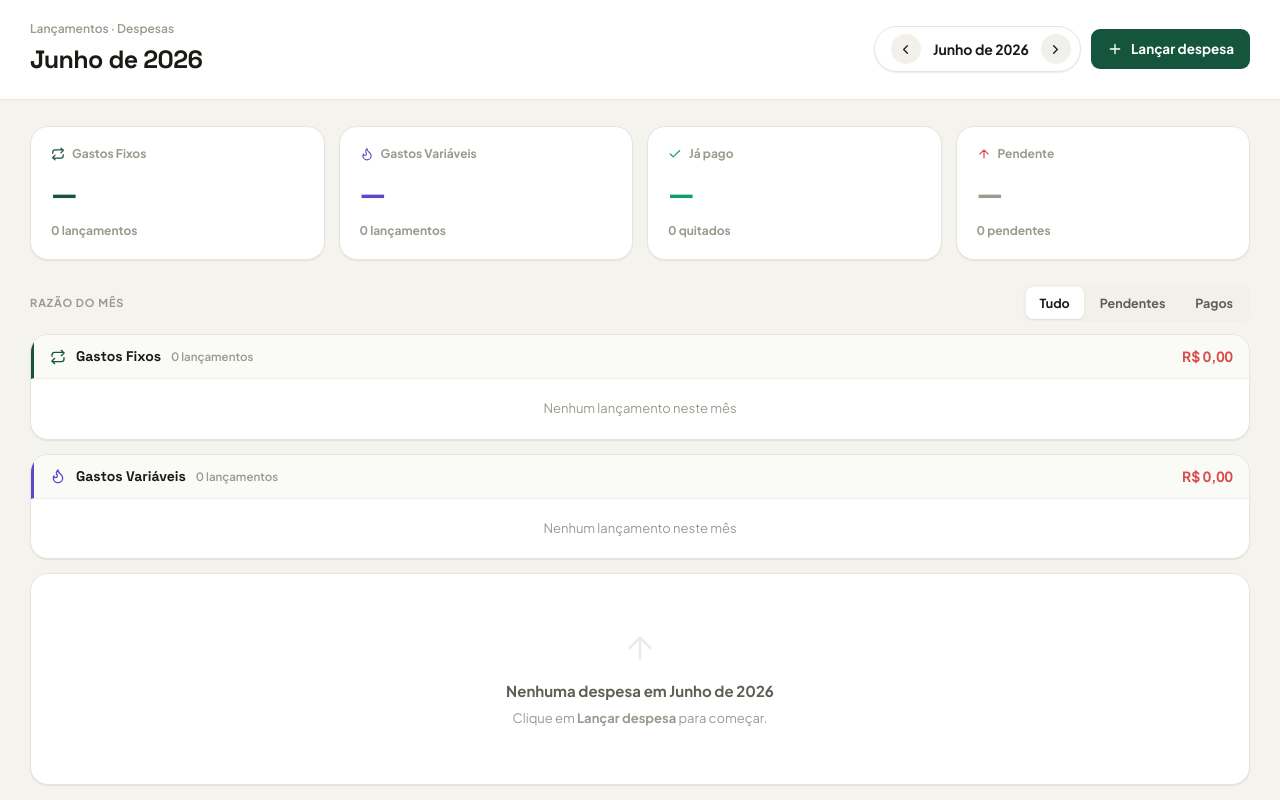
DebitoPage › opens ExpenseForm modal when 'Lançar despesa' is clicked
Expected: the text "Nenhuma despesa em Junho de 2026" is shown, [506, 681, 774, 700]
Step 1. Click the button "Lançar despesa" → x=1170, y=49, box [1091, 29, 1250, 69]
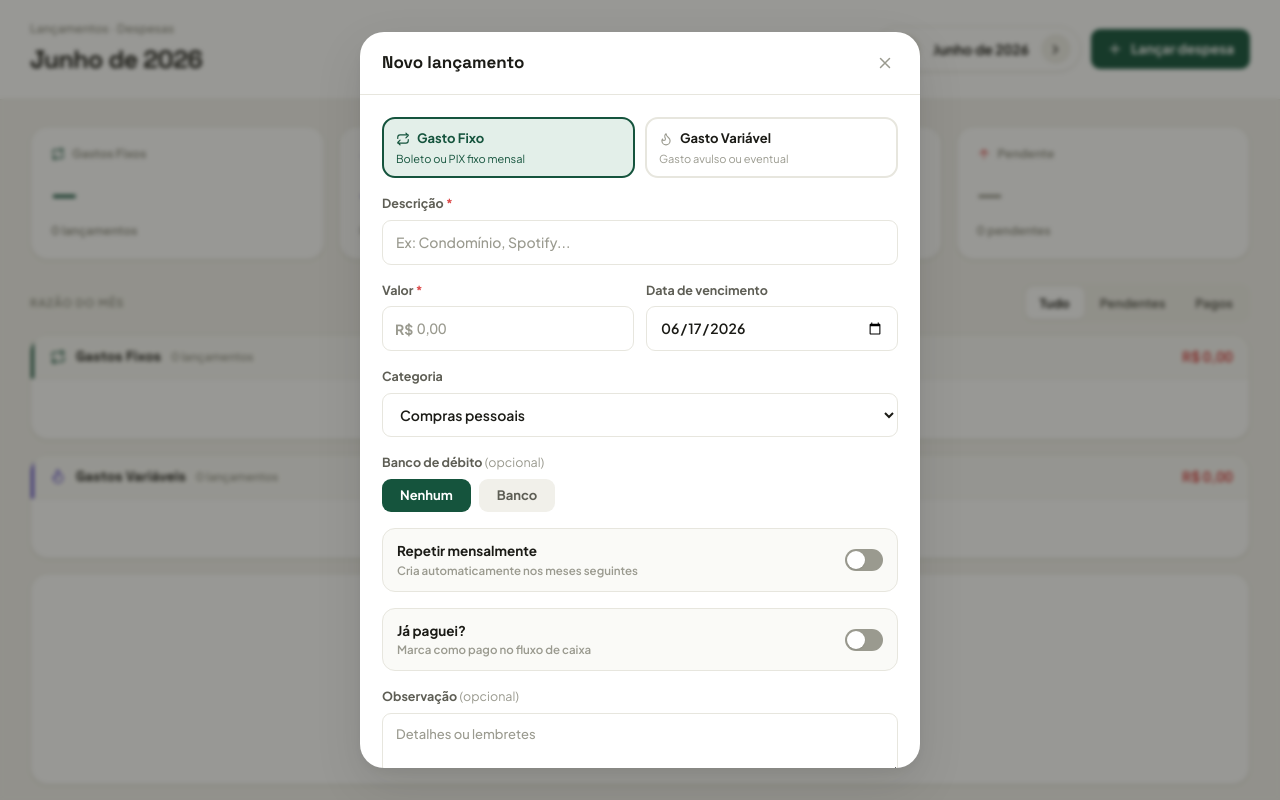
Expected: the heading "Novo lançamento" is shown, [382, 50, 524, 76]
Expected: the text "Gasto Fixo" is shown, [417, 129, 484, 148]
Expected: the text "Gasto Variável" is shown, [680, 129, 771, 148]
